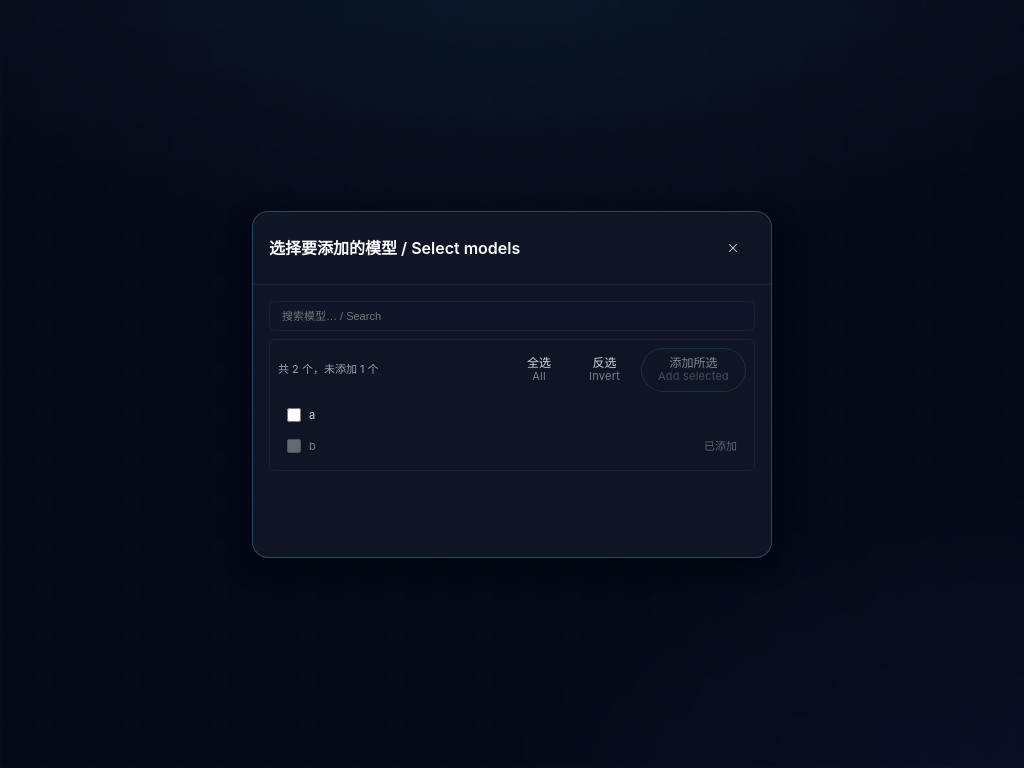
Test: FetchedModelDialog › 搜索过滤模型
Type "a" into the field with class "fmd-search" at x=512, y=316, box [269,300,755,330]
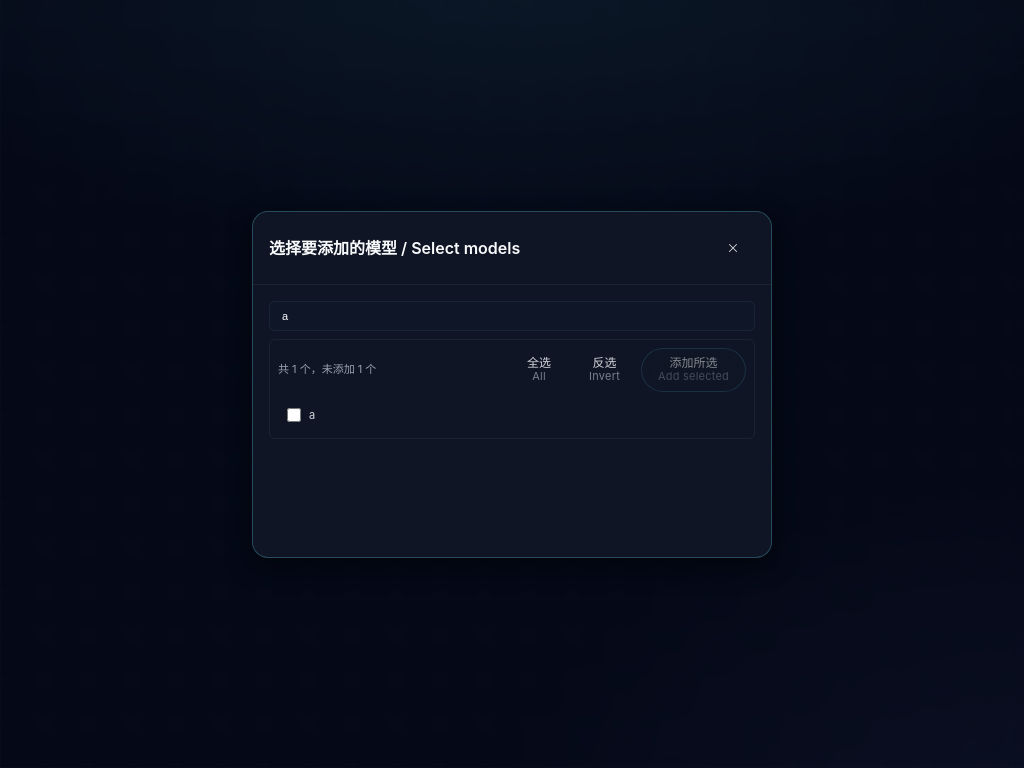
Expected: the number of labels with class "fm-row" is 1, [287,408,315,422]
